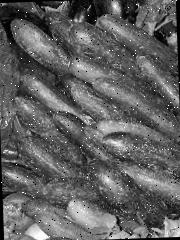organic: (94, 6, 180, 122), (66, 149, 174, 223), (84, 109, 180, 178), (6, 12, 77, 78)
